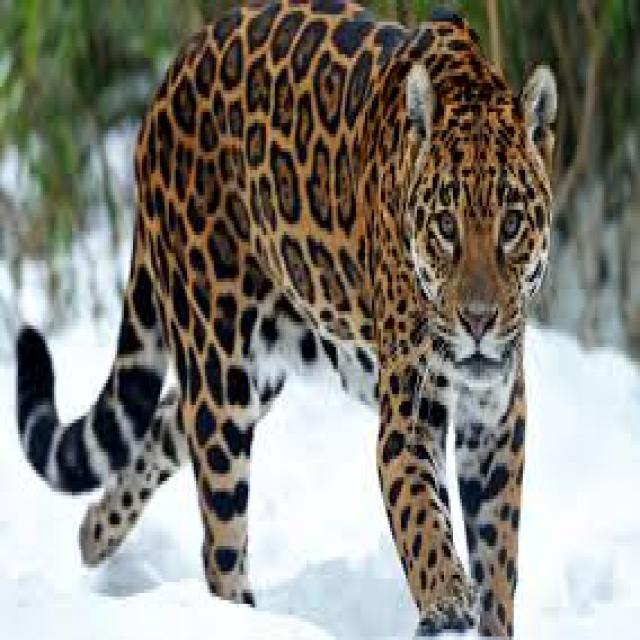Jaguar: (18, 0, 606, 629)
